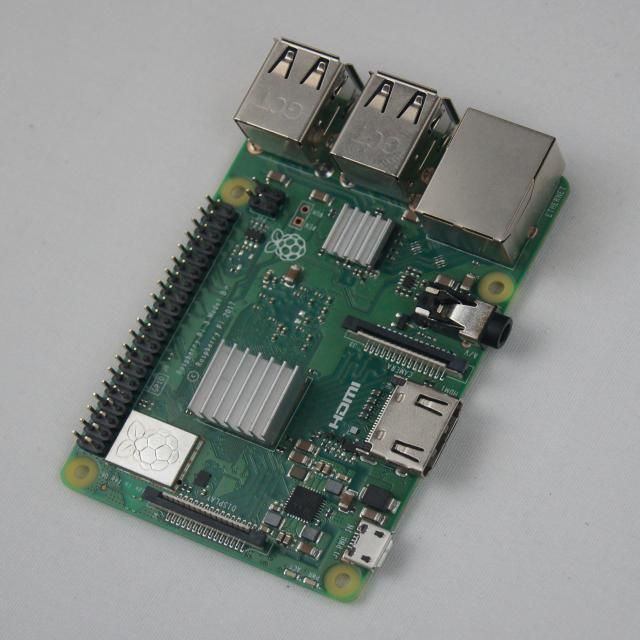Raspberry Pi 3 B-: (62, 39, 568, 602)
